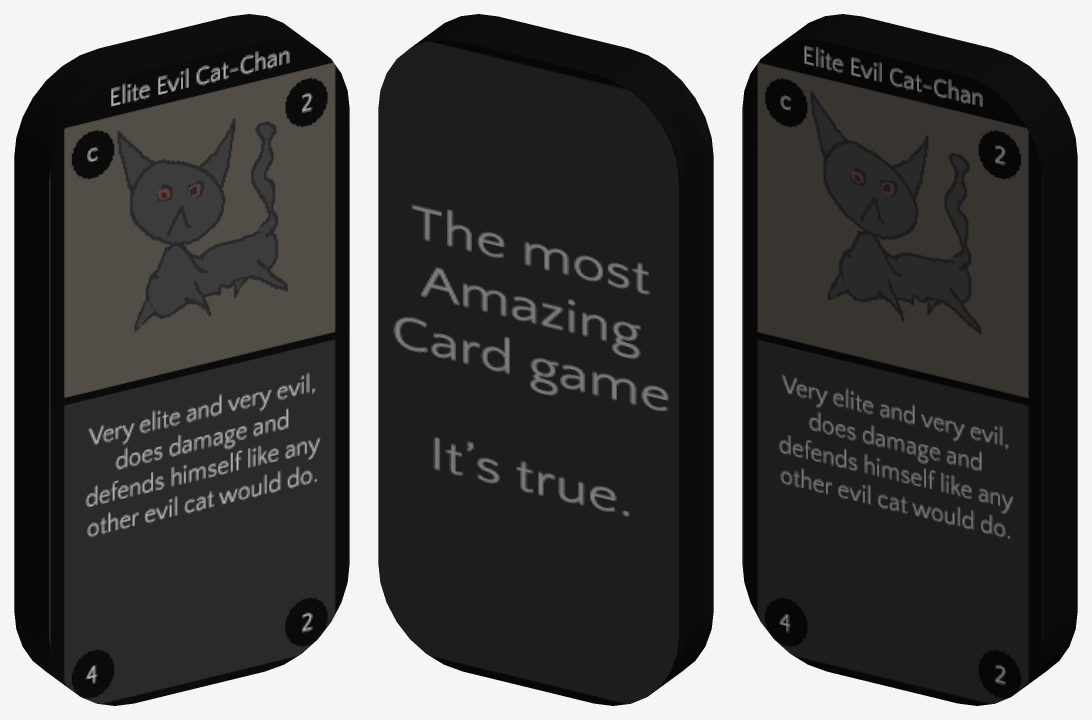
File: Card.fbx
3 renders of one model, left to right at view 1: azimuth 30°, elevation 25°; view 2: azimuth 150°, elevation 25°; view 3: azimuth 330°, elevation 25°, orthographic.
Visible parts, largest first — view 1: pCube1; view 2: pCube1; view 3: pCube1.
Boxes of the visible parts, x1,y1,x2,y2 form: pCube1: (14,14,349,705); pCube1: (378,14,713,705); pCube1: (742,14,1077,705).
Bounding box in the file's own units: 1 × 2 × 0.2.
Materials: 1 (1 with a texture image).
